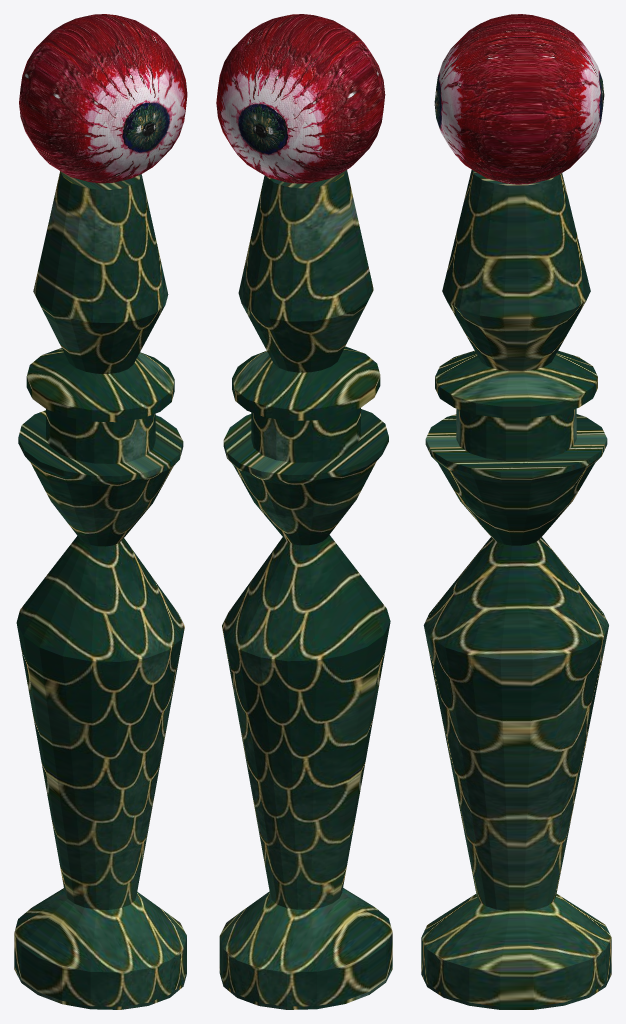
Rendered from Ojo.fbx.
3 views of the same model, side by side, from view 1: azimuth 30°, elevation 25°; view 2: azimuth 150°, elevation 25°; view 3: azimuth 270°, elevation 25° (orthographic).
Visible parts, largest first — view 1: Cylinder.010, Sphere; view 2: Cylinder.010, Sphere; view 3: Cylinder.010, Sphere.
Part boxes in pixels (x1=…): Cylinder.010: x1=14, y1=171, x2=186, y2=1009; Sphere: x1=19, y1=14, x2=187, y2=183; Cylinder.010: x1=219, y1=170, x2=392, y2=1009; Sphere: x1=216, y1=14, x2=385, y2=183; Cylinder.010: x1=421, y1=170, x2=611, y2=1009; Sphere: x1=434, y1=14, x2=604, y2=184.
Size of the model in its own units: 0.3392 by 2.07 by 0.3728.
2 materials, 2 textured.
